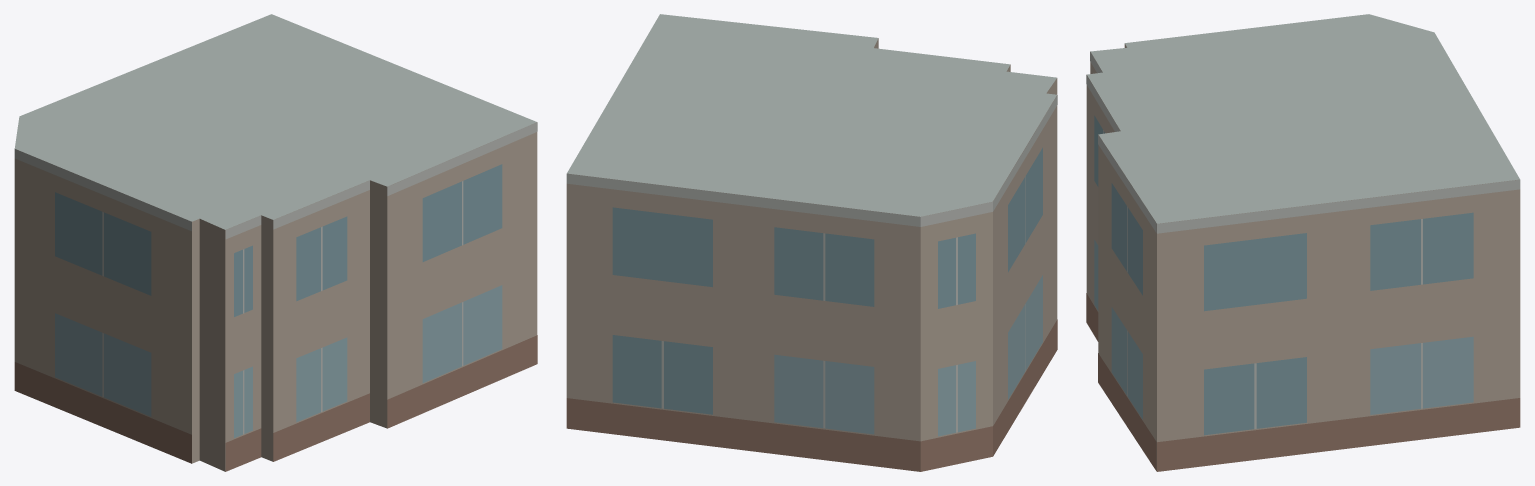
Rendered from survey-upis-33039362.glb.
The picture shows the model from 3 angles, left to right: view 1: azimuth 30°, elevation 25°; view 2: azimuth 150°, elevation 25°; view 3: azimuth 270°, elevation 25°; orthographic projection. The views are drawn at different scales.
Parts seen in each view (by area): view 1: survey-upis-33039362.tmp; view 2: survey-upis-33039362.tmp; view 3: survey-upis-33039362.tmp.
Part boxes in pixels (left/top/right/bottom): survey-upis-33039362.tmp: left=14, top=14, right=537, bottom=471; survey-upis-33039362.tmp: left=566, top=14, right=1057, bottom=471; survey-upis-33039362.tmp: left=1086, top=14, right=1520, bottom=471.
Size of the model in its own units: 11.07 by 6.1 by 9.67.
